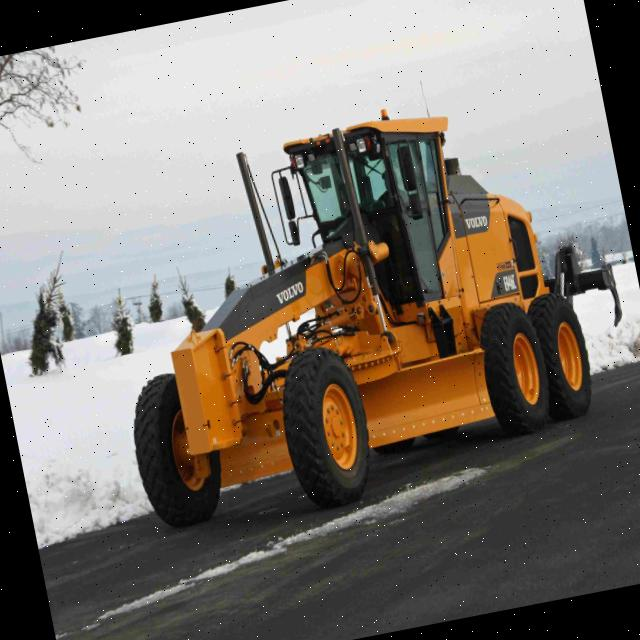Grader: (70, 68, 628, 554)
